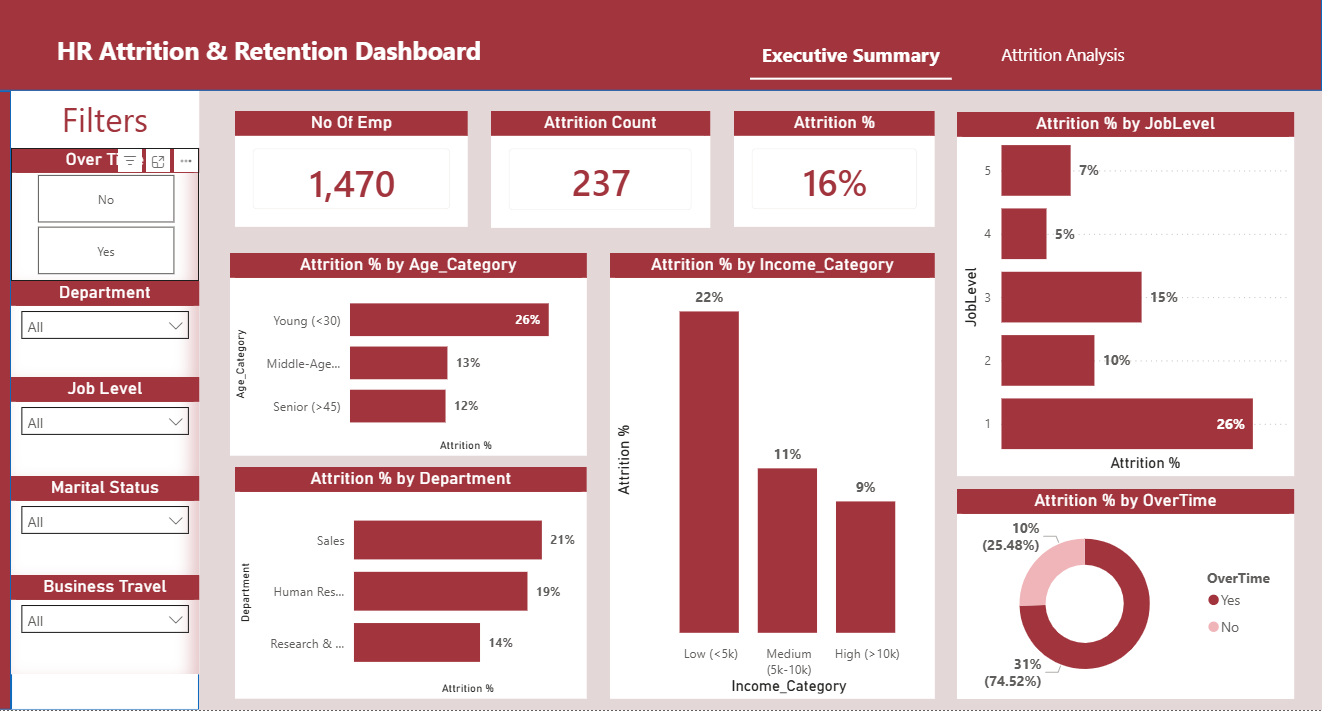

The page's visual inventory and layout, read from the dashboard file:
{"tool":"powerbi","page":{"name":"Executive Summary","canvas":[1280,720],"ordinal":0},"visuals":[{"type":"shape","title":"Departments","box":[0,0,1280,102.5],"z":0},{"type":"shape","box":[0,102.5,12.6,616.8],"z":1000},{"type":"cardVisual","title":"Attrition Count","fields":{"Data":["_Measures.Attrition count"]},"box":[474.7,120.8,211.7,113.1],"z":2000},{"type":"shape","box":[12.6,121.8,181.8,598.4],"z":3000},{"type":"cardVisual","title":"Attrition %","fields":{"Data":["_Measures.Attrition %"]},"box":[711.5,120.8,194.3,112.1],"z":4000},{"type":"clusteredBarChart","fields":{"Category":["HR_Datasets_Cleaned.Age_Category"],"Y":["_Measures.Attrition %"]},"box":[224.3,251.4,345.1,223.3],"z":5000},{"type":"columnChart","fields":{"Category":["HR_Datasets_Cleaned.Income_Category"],"Y":["_Measures.Attrition %"]},"box":[591.7,251.4,314.2,458.2],"z":6000},{"type":"clusteredBarChart","fields":{"Category":["HR_Datasets_Cleaned.Department"],"Y":["_Measures.Attrition %"]},"box":[229.1,485.3,340.3,224.3],"z":7000},{"type":"donutChart","fields":{"Category":["HR_Datasets_Cleaned.OverTime"],"Y":["_Measures.Attrition %"]},"box":[927.1,506.6,325.8,203],"z":8000},{"type":"clusteredBarChart","fields":{"Category":["HR_Datasets_Cleaned.JobLevel"],"Y":["_Measures.Attrition %"]},"box":[927.1,122.8,325.8,351.9],"z":9000},{"type":"cardVisual","title":"No Of Emp","fields":{"Data":["_Measures.No of Emp"]},"box":[229.1,121.8,225.3,112.1],"z":10000},{"type":"textbox","box":[12.6,102.5,181.8,60.9],"z":11000},{"type":"slicer","title":"Over Time","fields":{"Values":["HR_Datasets_Cleaned.OverTime"]},"box":[12.6,163.4,181.8,142.1],"z":12000},{"type":"slicer","title":"Years with current manager","fields":{"Values":["HR_Datasets_Cleaned.new_YearsWithCurrManager"]},"box":[12.6,305.5,181.8,92.8],"z":13000},{"type":"slicer","title":"Job Level","fields":{"Values":["HR_Datasets_Cleaned.JobLevel"]},"box":[12.6,398.3,181.8,95.7],"z":14000},{"type":"slicer","title":"Marital Status","fields":{"Values":["HR_Datasets_Cleaned.MaritalStatus"]},"box":[12.6,494,181.8,95.7],"z":15000},{"type":"slicer","title":"Business Travel","fields":{"Values":["HR_Datasets_Cleaned.BusinessTravel"]},"box":[12.6,589.7,181.8,95.7],"z":16000},{"type":"textbox","box":[35.8,43.5,450.5,64.8],"z":17000},{"type":"pageNavigator","box":[727,32.9,400.2,50.3],"z":18000}]}

Visuals, with their boxes on the page's 1280x720 design canvas (x1, y1, x2, y2). These are canvas units, not pixel positions in the 1322x711 screenshot, which may show the page scaled, cropped or inside an application window:
"Departments" shape: (left=0, top=0, right=1280, bottom=102)
shape: (left=0, top=102, right=13, bottom=719)
"Attrition Count" cardVisual: (left=475, top=121, right=686, bottom=234)
shape: (left=13, top=122, right=194, bottom=720)
"Attrition %" cardVisual: (left=712, top=121, right=906, bottom=233)
clusteredBarChart - HR_Datasets_Cleaned.Age_Category x _Measures.Attrition %: (left=224, top=251, right=569, bottom=475)
columnChart - HR_Datasets_Cleaned.Income_Category x _Measures.Attrition %: (left=592, top=251, right=906, bottom=710)
clusteredBarChart - HR_Datasets_Cleaned.Department x _Measures.Attrition %: (left=229, top=485, right=569, bottom=710)
donutChart - HR_Datasets_Cleaned.OverTime x _Measures.Attrition %: (left=927, top=507, right=1253, bottom=710)
clusteredBarChart - HR_Datasets_Cleaned.JobLevel x _Measures.Attrition %: (left=927, top=123, right=1253, bottom=475)
"No Of Emp" cardVisual: (left=229, top=122, right=454, bottom=234)
textbox: (left=13, top=102, right=194, bottom=163)
"Over Time" slicer: (left=13, top=163, right=194, bottom=306)
"Years with current manager" slicer: (left=13, top=306, right=194, bottom=398)
"Job Level" slicer: (left=13, top=398, right=194, bottom=494)
"Marital Status" slicer: (left=13, top=494, right=194, bottom=590)
"Business Travel" slicer: (left=13, top=590, right=194, bottom=685)
textbox: (left=36, top=44, right=486, bottom=108)
pageNavigator: (left=727, top=33, right=1127, bottom=83)
